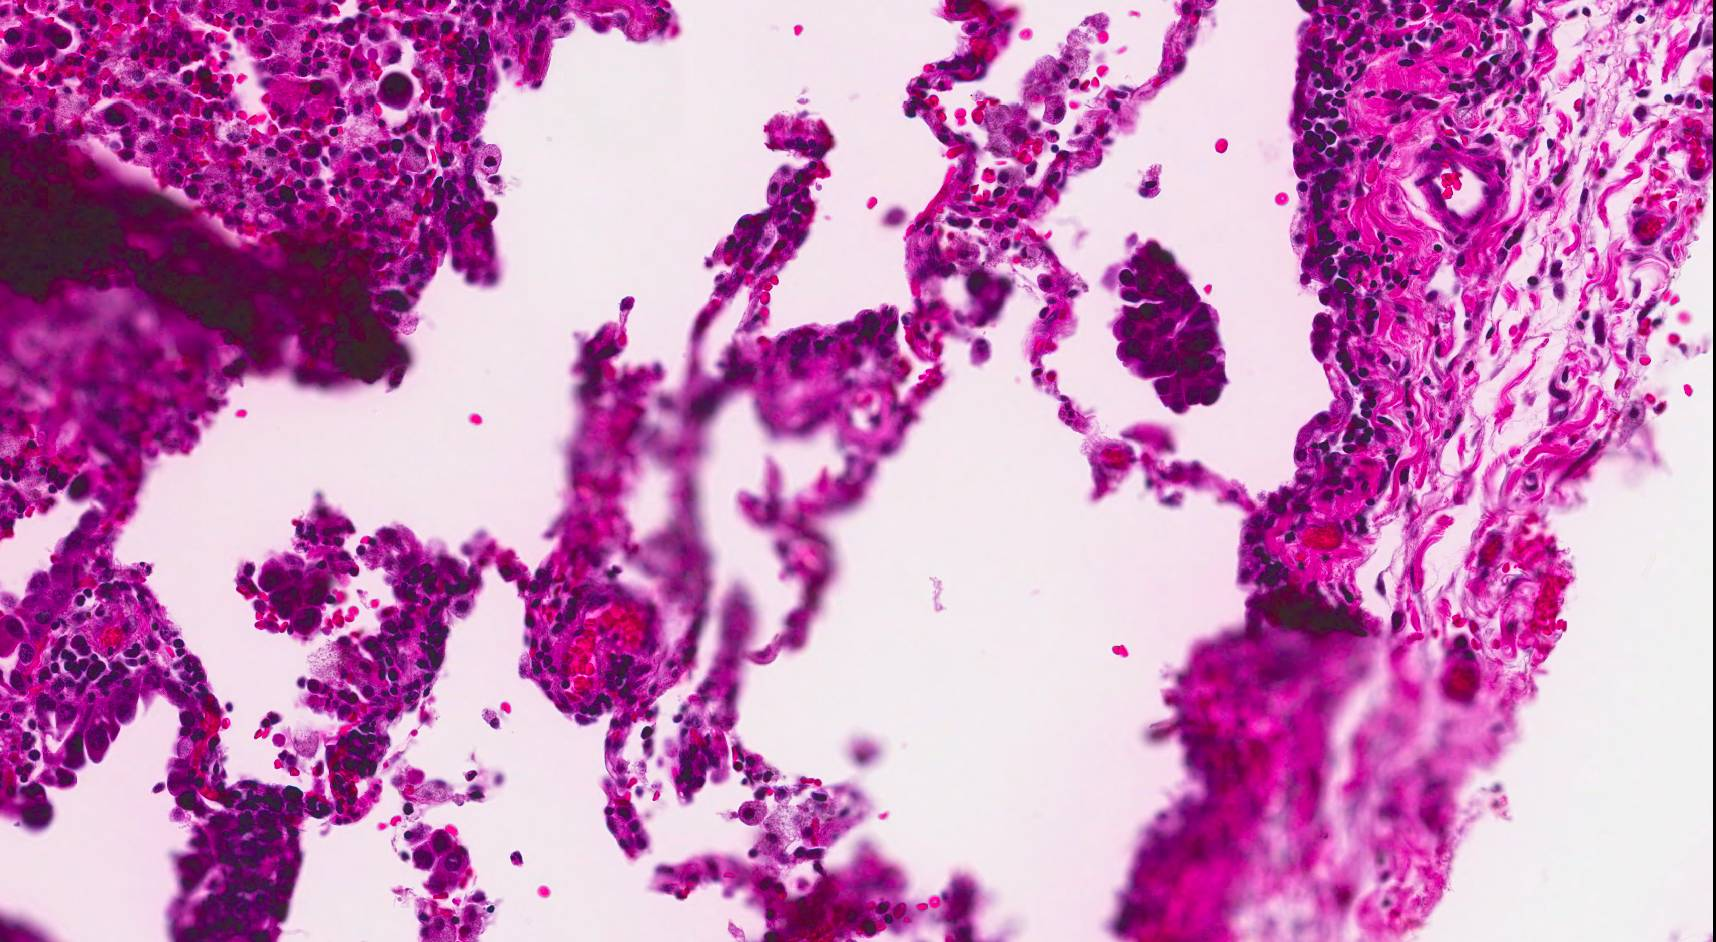stas: (1113, 238, 1234, 414)
